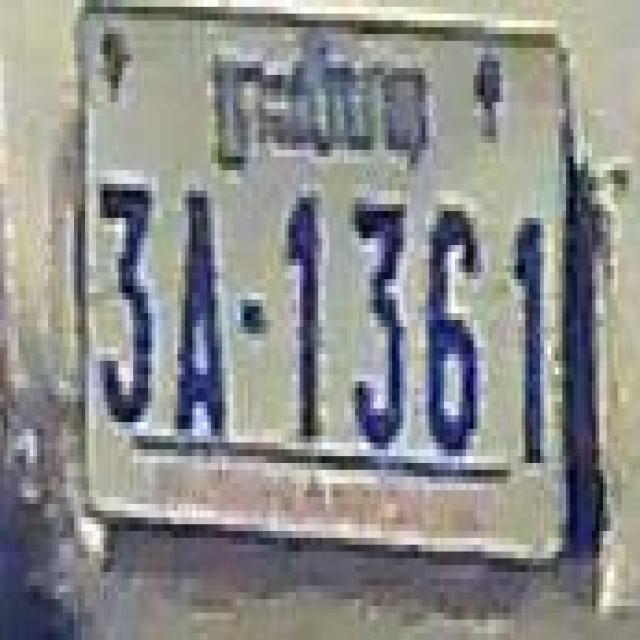Preah_Sihanouk: (211, 34, 430, 177)
